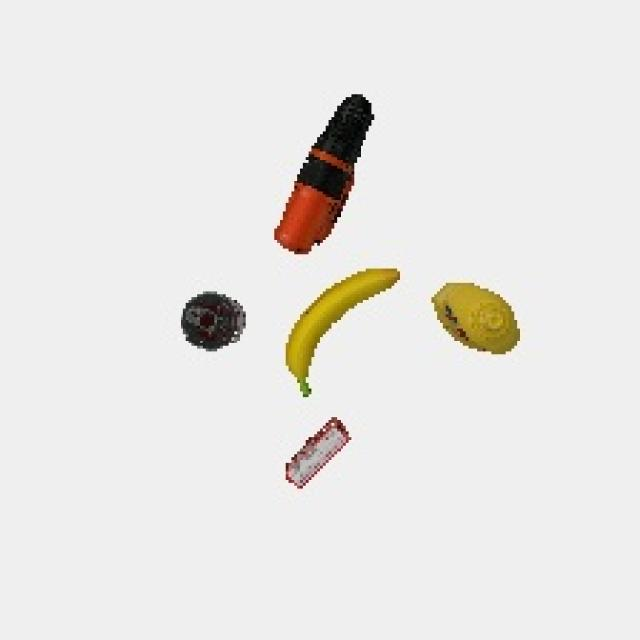Banana: (275, 266, 405, 400)
GelatinBox: (271, 413, 359, 497)
MustardBottle: (427, 277, 531, 364)
PowerDrill: (268, 88, 383, 260)
TomatoSoupCan: (172, 285, 252, 362)
